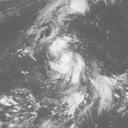cyclone: (46, 36, 84, 77)
